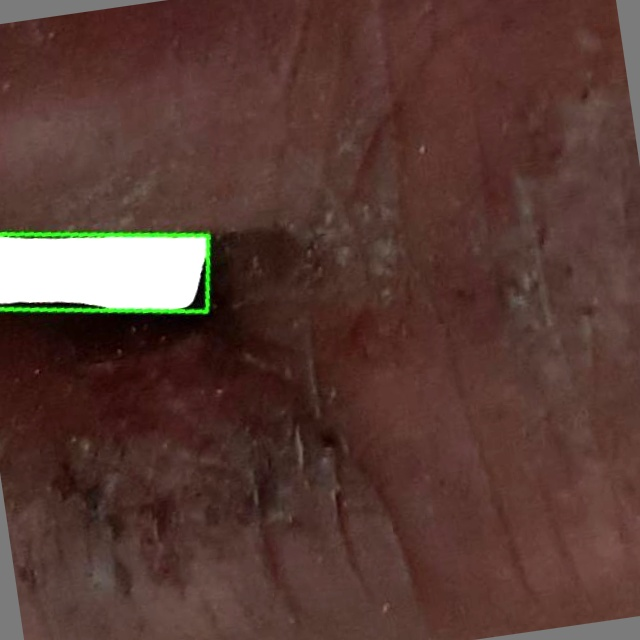Eczema: (0, 232, 208, 310)
